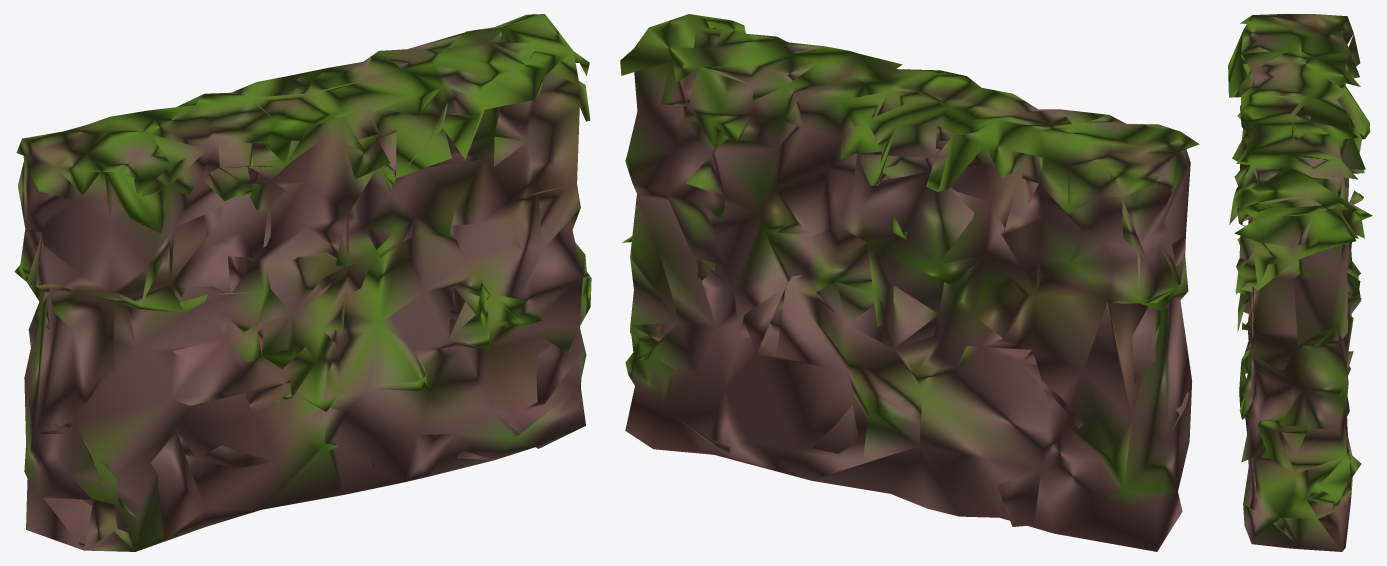
Rendered from gen3d-vine-covered-rock-wall-lod0.glb.
The picture shows the model from 3 angles, left to right: view 1: azimuth 30°, elevation 25°; view 2: azimuth 150°, elevation 25°; view 3: azimuth 270°, elevation 25°; orthographic projection. The views are drawn at different scales.
Visible parts, largest first — view 1: part_0; view 2: part_0; view 3: part_0.
Boxes of the visible parts, x1,y1,x2,y2 form: part_0: (14,14,591,551); part_0: (620,14,1199,551); part_0: (1228,14,1372,551).
Size of the model in its own units: 1.39 by 0.9852 by 0.3745.
